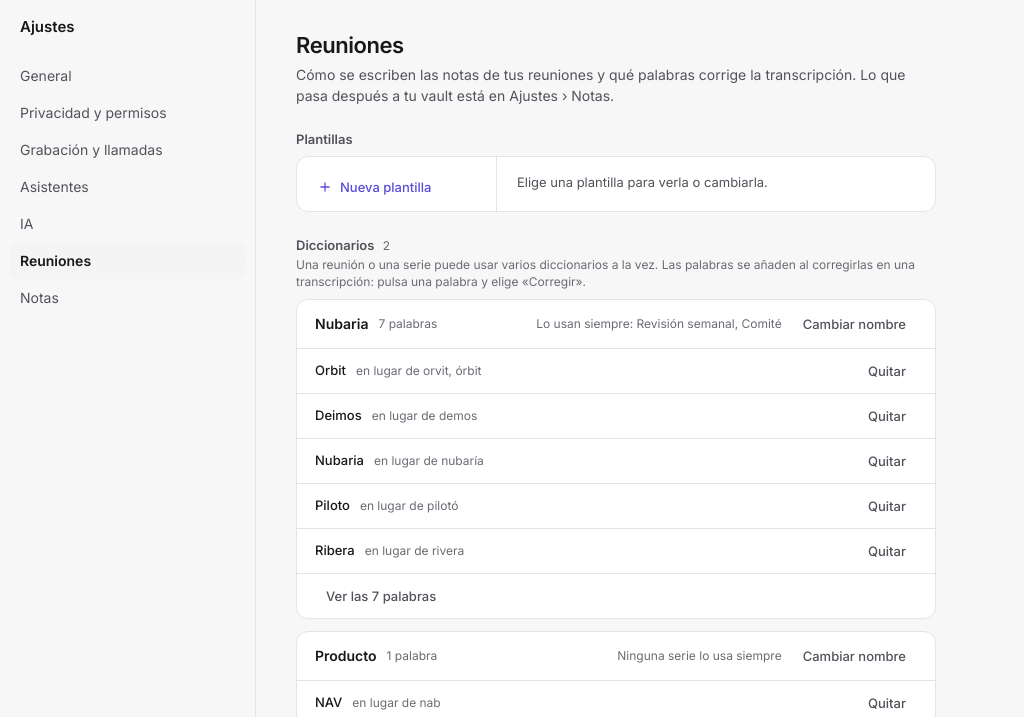
Test: Settings shows several dictionaries, each in its own card with its words and its series
Expected: the text "2" is shown, [382, 237, 390, 254]
Expected: the text "7 palabras" is shown, [378, 315, 438, 333]
Click the button "Ver las 7 palabras" at coordinates (381, 596), box [315, 582, 447, 610]
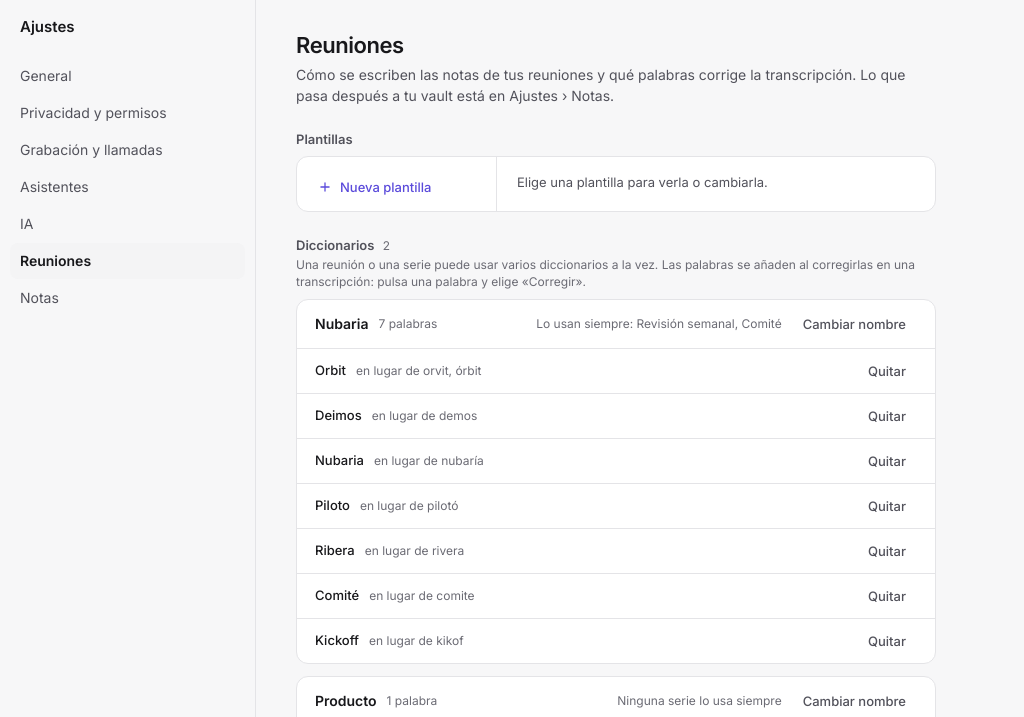
Expected: the text "1 palabra" is shown, [387, 692, 437, 710]
Result: the text "Kickoff" is shown at [315, 631, 359, 651]
Result: the button "Ver las" is gone
